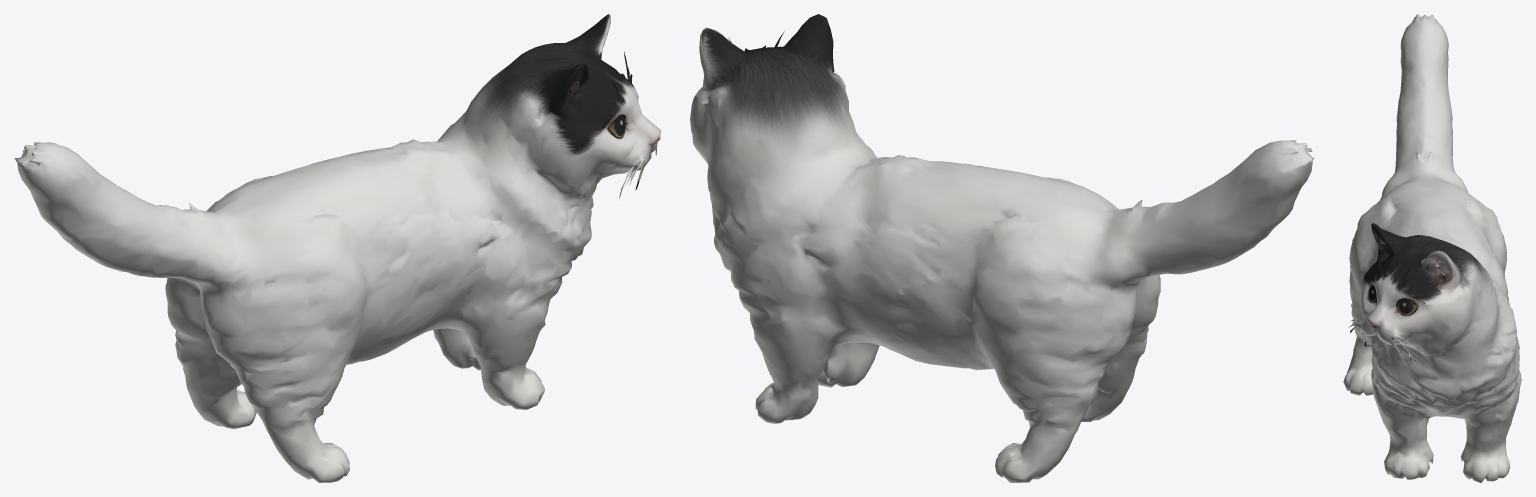
The model's file is IDPHOTO.glb.
3 views of the same model, side by side, from view 1: azimuth 30°, elevation 25°; view 2: azimuth 150°, elevation 25°; view 3: azimuth 270°, elevation 25° (orthographic). The views are drawn at different scales.
Parts seen in each view (by area): view 1: tripo_node_ba5f0189-a6e4-4b0d-b400-7822ae4c229a; view 2: tripo_node_ba5f0189-a6e4-4b0d-b400-7822ae4c229a; view 3: tripo_node_ba5f0189-a6e4-4b0d-b400-7822ae4c229a.
Part boxes in pixels (x1=…): tripo_node_ba5f0189-a6e4-4b0d-b400-7822ae4c229a: x1=14, y1=14, x2=661, y2=482; tripo_node_ba5f0189-a6e4-4b0d-b400-7822ae4c229a: x1=690, y1=14, x2=1314, y2=482; tripo_node_ba5f0189-a6e4-4b0d-b400-7822ae4c229a: x1=1343, y1=14, x2=1521, y2=482.
Bounding box in the file's own units: 1.82 × 1 × 0.5733.
1 material, 1 textured.
